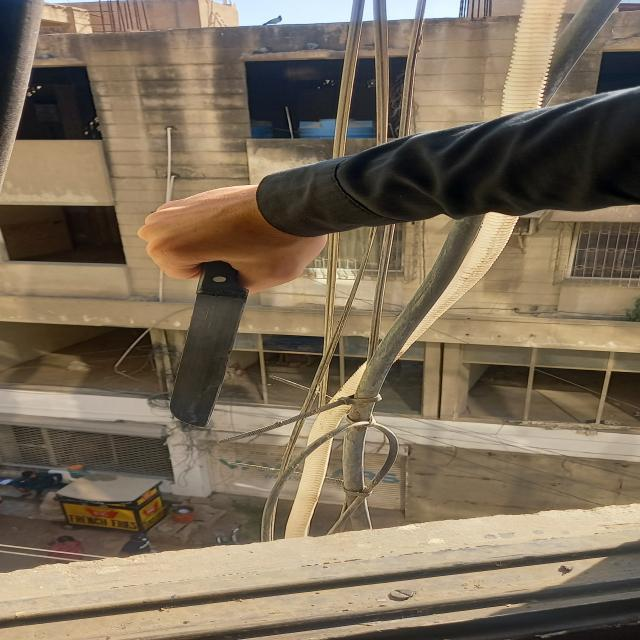knife: (160, 259, 249, 436)
